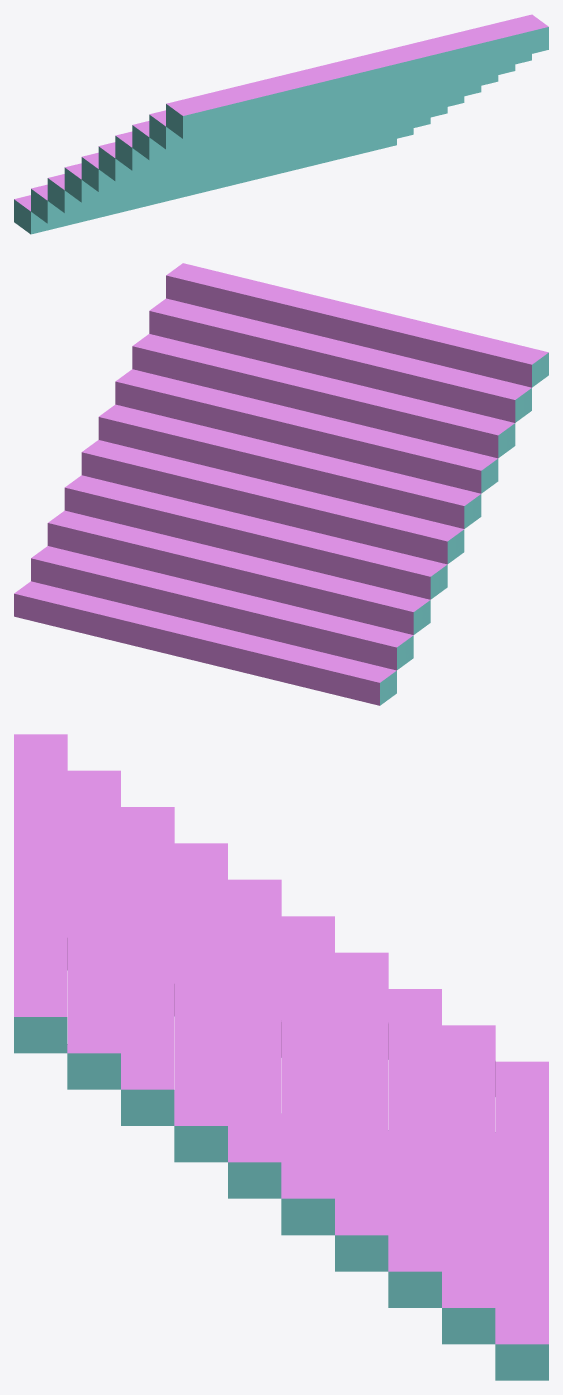
The model's file is AgilityStair.fbx.
The picture shows the model from 3 angles, top to bottom: view 1: azimuth 30°, elevation 25°; view 2: azimuth 150°, elevation 25°; view 3: azimuth 270°, elevation 25°; orthographic projection. The views are drawn at different scales.
Visible parts, largest first — view 1: StairAgility; view 2: StairAgility; view 3: StairAgility.
Boxes of the visible parts, x1=… form: StairAgility: x1=14, y1=14, x2=548, y2=234; StairAgility: x1=14, y1=263, x2=548, y2=705; StairAgility: x1=14, y1=734, x2=548, y2=1380.
Bounding box in the file's own units: 2.5 × 1.5 × 2.
